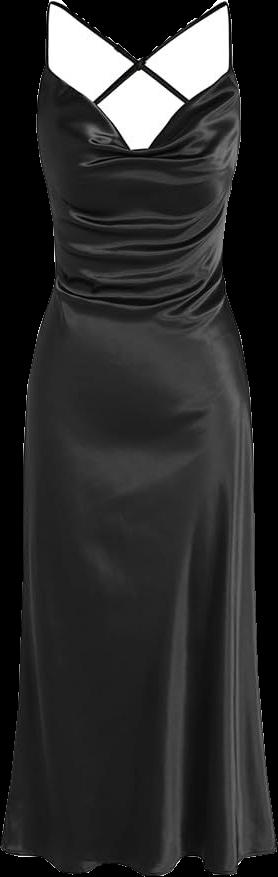Bodice: (36, 65, 240, 284)
Hemline: (0, 841, 277, 876)
Neckline: (43, 63, 237, 156)
Skirt: (1, 283, 276, 875)
